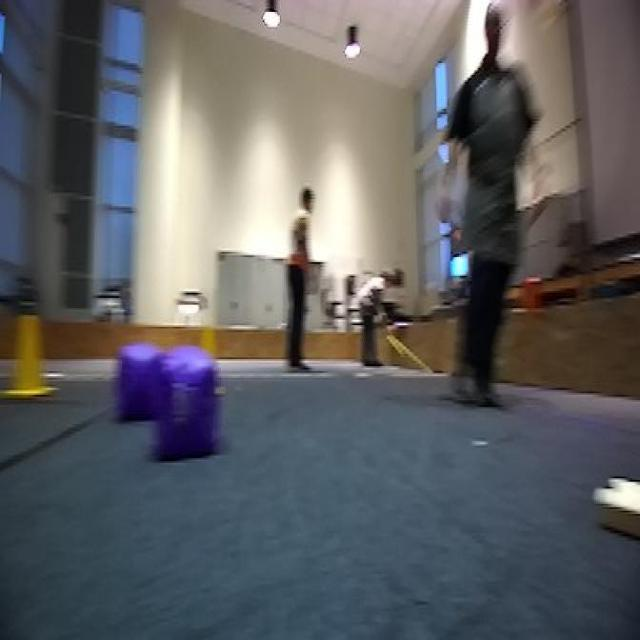frc_cone: (5, 310, 52, 398), (193, 325, 221, 395)
frc_cube: (157, 350, 217, 452), (119, 342, 165, 422)
